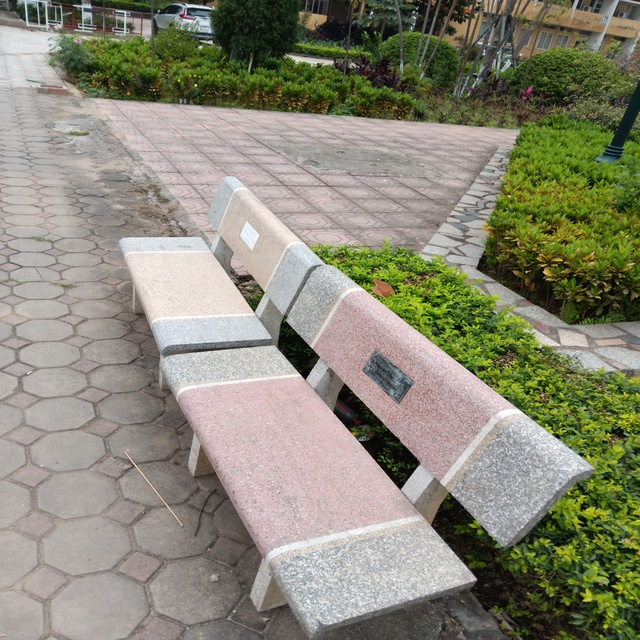gheda: (165, 264, 594, 632), (113, 174, 316, 398)
